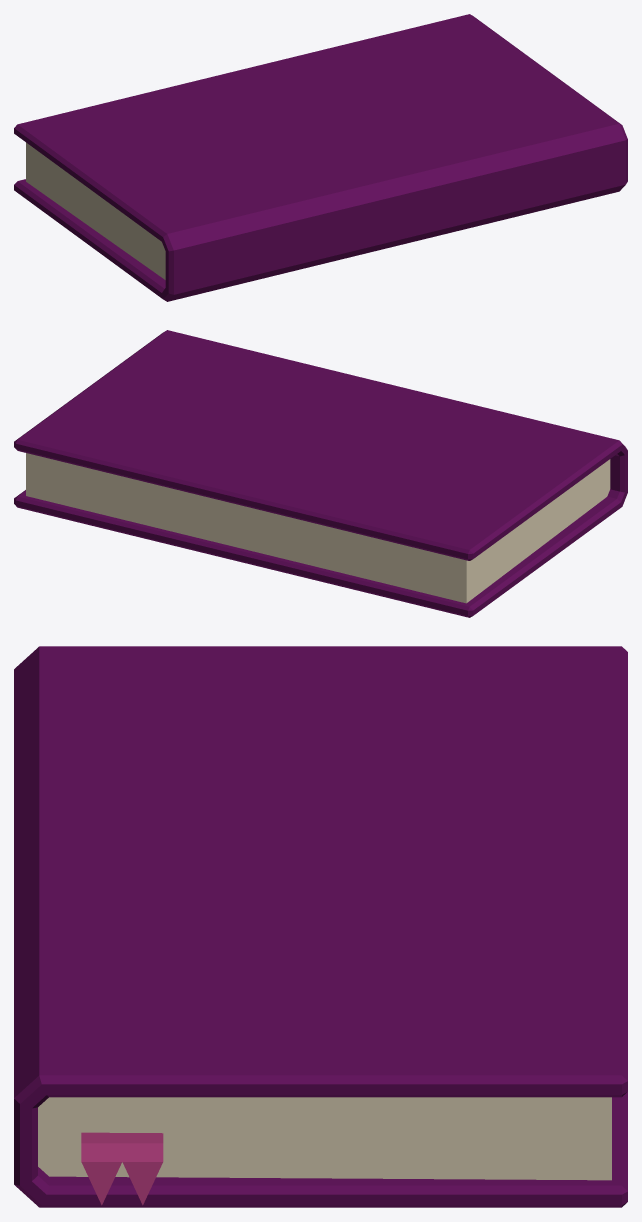
The model's file is SM_Book2.fbx.
3 renders of one model, top to bottom at view 1: azimuth 30°, elevation 25°; view 2: azimuth 150°, elevation 25°; view 3: azimuth 270°, elevation 25°, orthographic. The views are drawn at different scales.
Parts seen in each view (by area): view 1: Cube.027; view 2: Cube.027; view 3: Cube.027.
Boxes of the visible parts, box(x1,y1,x2,y2) form: Cube.027: box(14, 14, 627, 301); Cube.027: box(14, 330, 627, 617); Cube.027: box(14, 646, 627, 1207).
Size of the model in its own units: 23.28 by 40.24 by 5.53.
